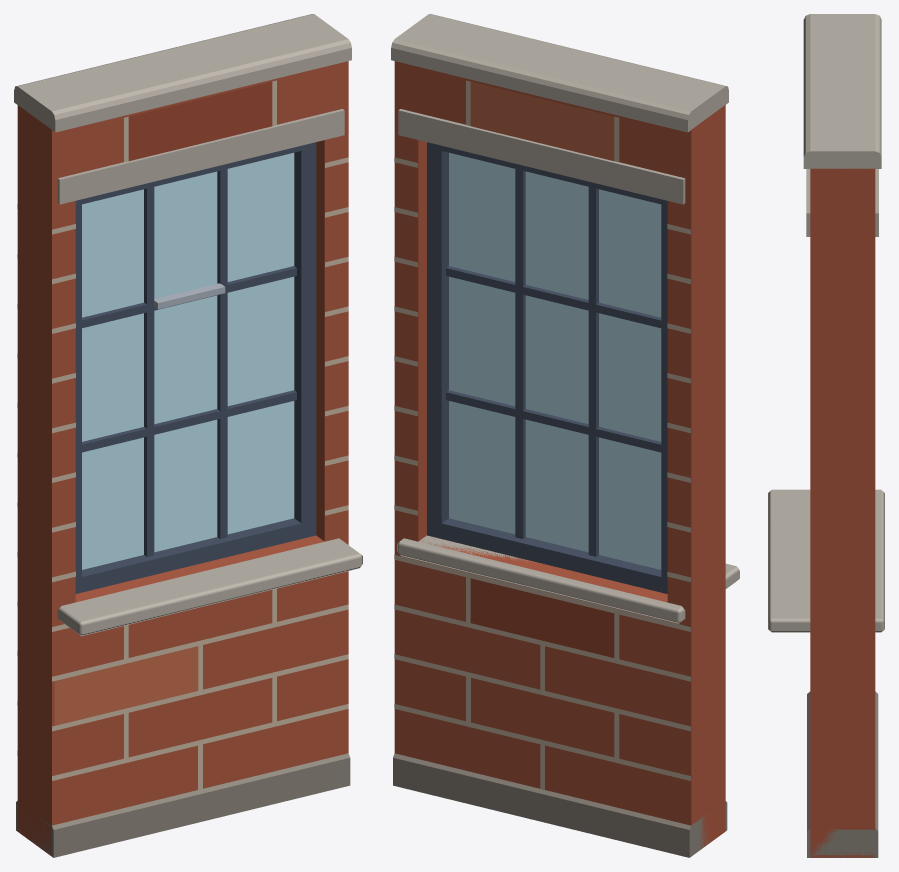
Rendered from wand_voll_fenster.glb.
3 views of the same model, side by side, from view 1: azimuth 30°, elevation 25°; view 2: azimuth 150°, elevation 25°; view 3: azimuth 270°, elevation 25° (orthographic). The views are drawn at different scales.
Visible parts, largest first — view 1: wand_voll_fenster; view 2: wand_voll_fenster; view 3: wand_voll_fenster.
Part boxes in pixels (<box>): wand_voll_fenster: <box>14,14,362,857</box>; wand_voll_fenster: <box>391,14,739,857</box>; wand_voll_fenster: <box>768,14,884,857</box>.
Bounding box in the file's own units: 1 × 2.4 × 0.36.
